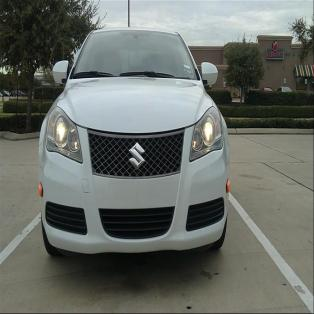Auto: (36, 26, 232, 263)
